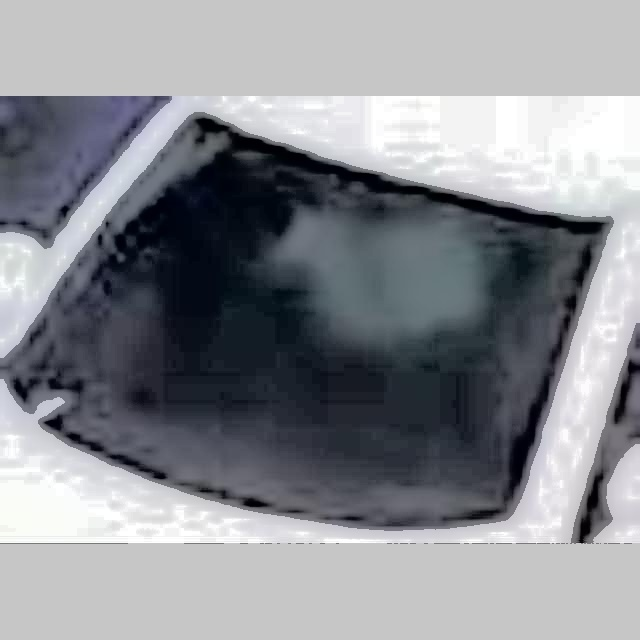tidak-pakai: (268, 199, 461, 371)
